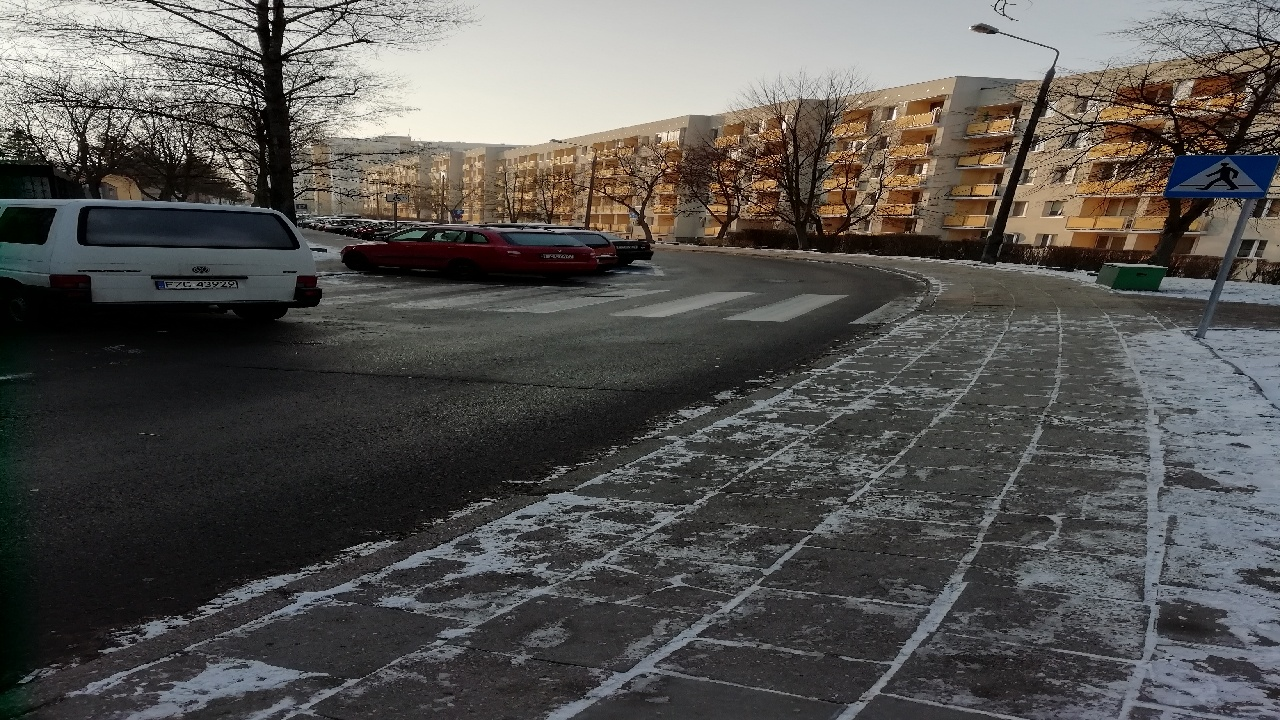D6: (1166, 153, 1278, 197)
